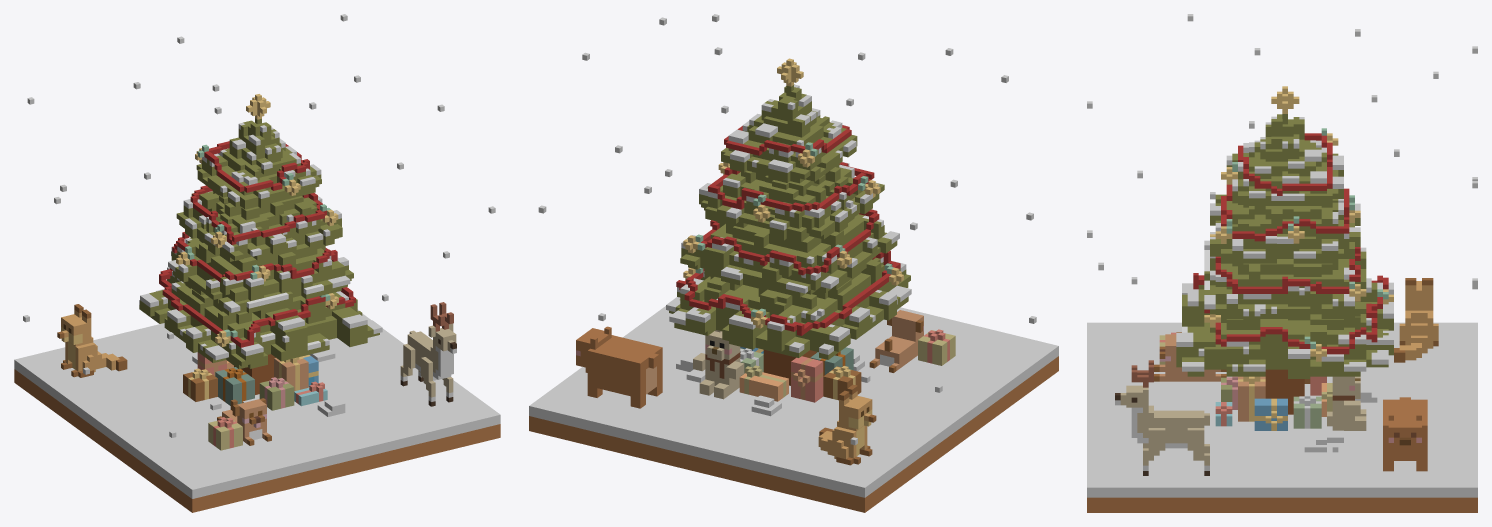
Rendered from Tree7Animated.glb.
3 views of the same model, side by side, from view 1: azimuth 30°, elevation 25°; view 2: azimuth 150°, elevation 25°; view 3: azimuth 270°, elevation 25° (orthographic). The views are drawn at different scales.
Visible parts, largest first — view 1: Tree7:Mesh; view 2: Tree7:Mesh; view 3: Tree7:Mesh.
Part boxes in pixels (<box>): Tree7:Mesh: <box>14,14,500,512</box>; Tree7:Mesh: <box>529,14,1058,512</box>; Tree7:Mesh: <box>1087,14,1477,512</box>.
Bounding box in the file's own units: 0.0399 × 0.0399 × 0.0399.
1 material, 1 textured.
